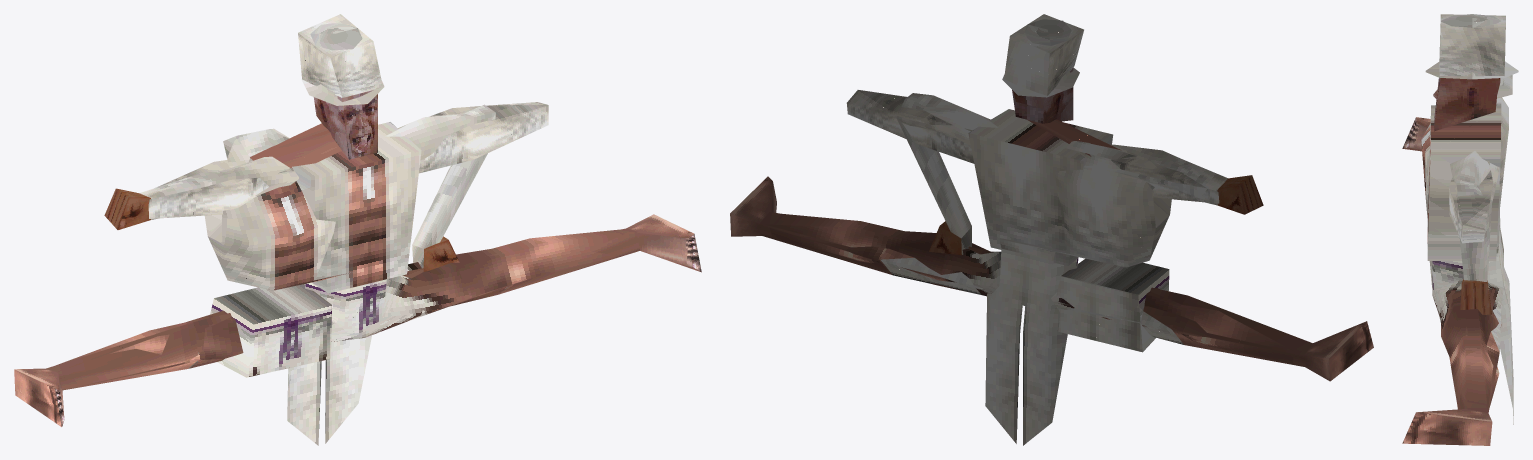
Rendered from CbaronsamediZ.obj.
3 renders of one model, left to right at view 1: azimuth 30°, elevation 25°; view 2: azimuth 150°, elevation 25°; view 3: azimuth 270°, elevation 25°, orthographic. The views are drawn at different scales.
Size of the model in its own units: 2167 by 1393 by 363.
Materials: 28 (28 with a texture image).
